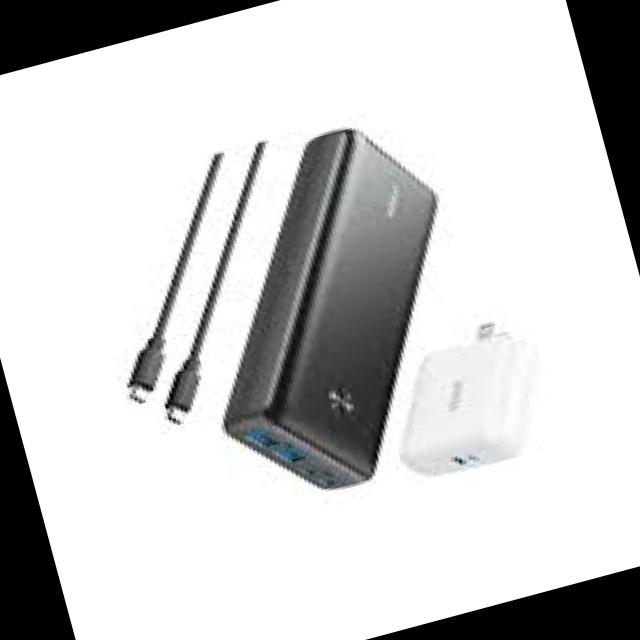portable-charger: (147, 106, 508, 522)
